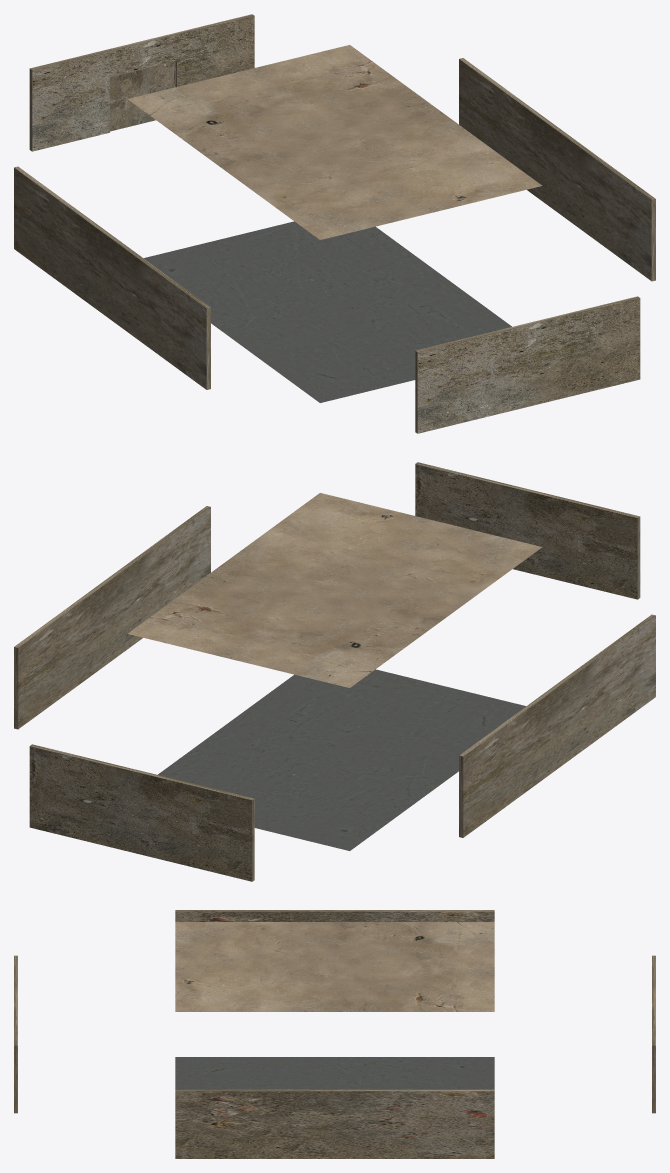
Rendered from porkroom_chamber_01.glb.
3 views of the same model, one above another, from view 1: azimuth 30°, elevation 25°; view 2: azimuth 150°, elevation 25°; view 3: azimuth 270°, elevation 25° (orthographic). The views are drawn at different scales.
Parts seen in each view (by area): view 1: Ceiling, Floor, Wall_South, Wall_West, Wall_East, Wall_North; view 2: Ceiling, Floor, Wall_North, Wall_West, Wall_South, Wall_East; view 3: Ceiling, Wall_East, Floor, Wall_West, Wall_North, Wall_South.
Part boxes in pixels (x1,y1,x2,y2): Ceiling: (127,45,542,239); Floor: (144,221,511,402); Wall_South: (415,296,640,433); Wall_West: (14,166,210,389); Wall_East: (459,58,655,281); Wall_North: (29,14,254,151); Ceiling: (127,493,542,687); Floor: (158,669,525,850); Wall_North: (29,744,254,881); Wall_West: (459,614,655,837); Wall_South: (415,462,640,599); Wall_East: (14,506,210,729); Ceiling: (175,922,494,1011); Wall_East: (175,1089,494,1158); Floor: (175,1057,494,1089); Wall_West: (175,910,494,921); Wall_North: (652,955,655,1113); Wall_South: (14,955,17,1113).
Size of the model in its own units: 8.08 by 2.8 by 12.08.
Materials: 3 (3 with a texture image).
